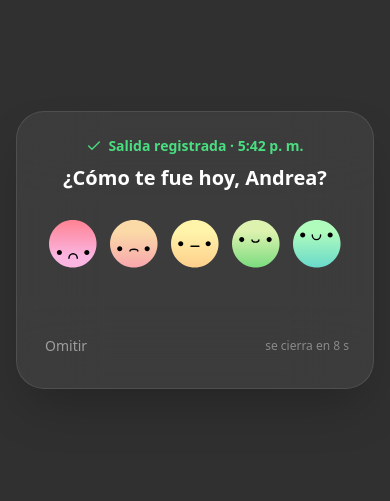
la observación › el interruptor solo aparece con la observación abierta
The image size is (390, 501).
Click the radio button named "Bien": (256,244) [228, 216, 284, 272]
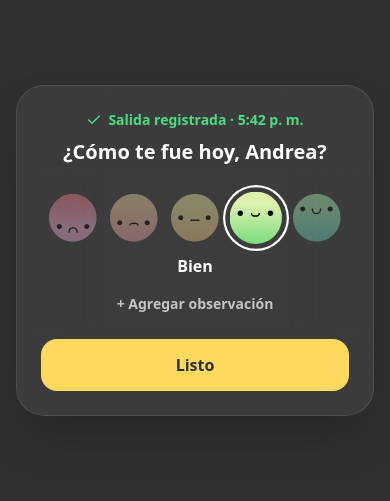
Click the button "+ Agregar observación": (195,304) [117, 294, 273, 314]
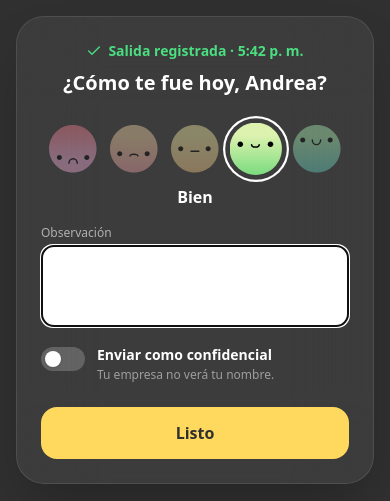
Result: the switch named "Enviar como confidencial" is shown at [41, 347, 85, 371]
